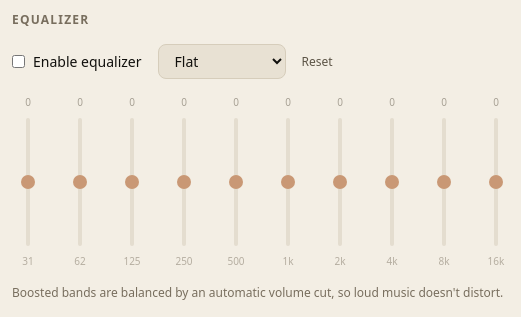
Test case: EqualizerSection › a preset moves every slider; Reset flattens them
This screenshot has width=521, height=317.
Select "Bass boost" in the dropdown named "Equalizer preset": [222, 62] box [158,44,286,79]
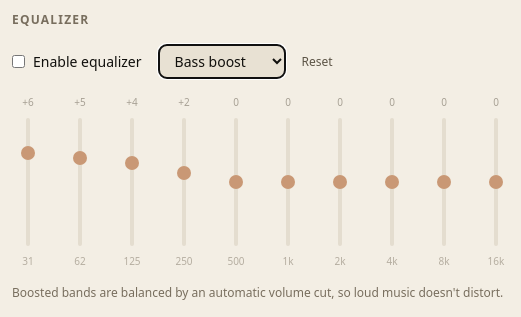
Check: the slider named "31 Hz" holds "6", box [26,118,30,246]
Click the button "Reset": [317, 62] box [302,54,333,70]
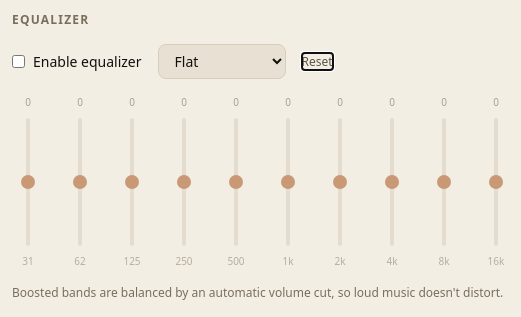
Check: the slider named "31 Hz" holds "0", box [26,118,30,246]
